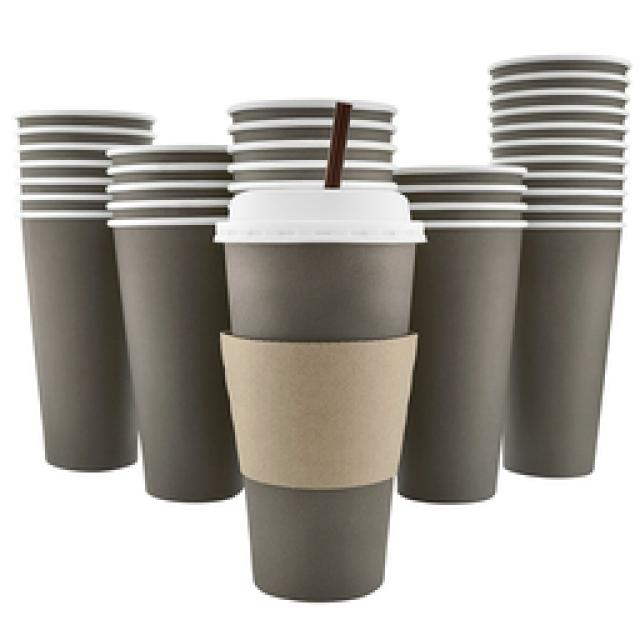paper_cups: (213, 181, 423, 605), (106, 213, 233, 505), (427, 220, 524, 504), (531, 203, 627, 479), (10, 206, 107, 471)
